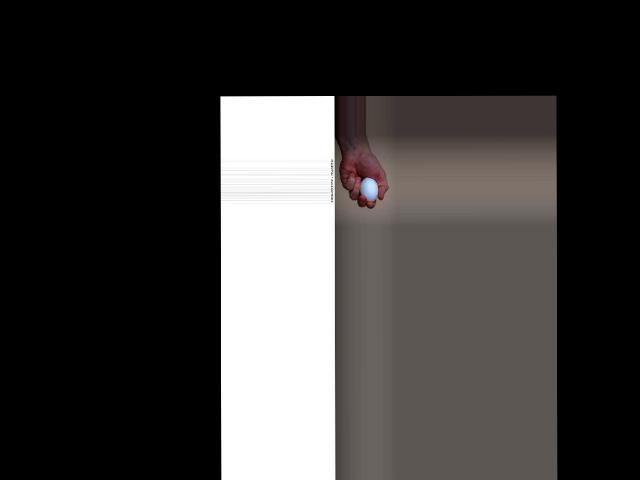egg: (360, 176, 378, 201)
